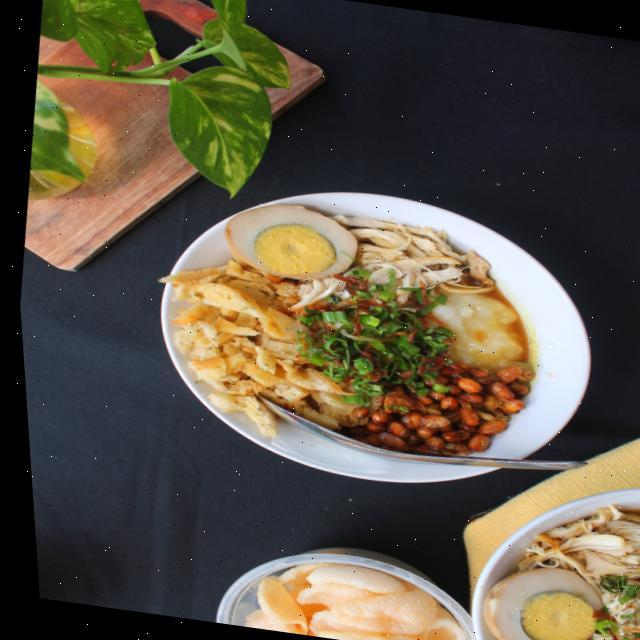bubur ayam: (132, 187, 562, 480)
mangkuk: (128, 163, 621, 510), (453, 463, 640, 640), (208, 531, 492, 640)
